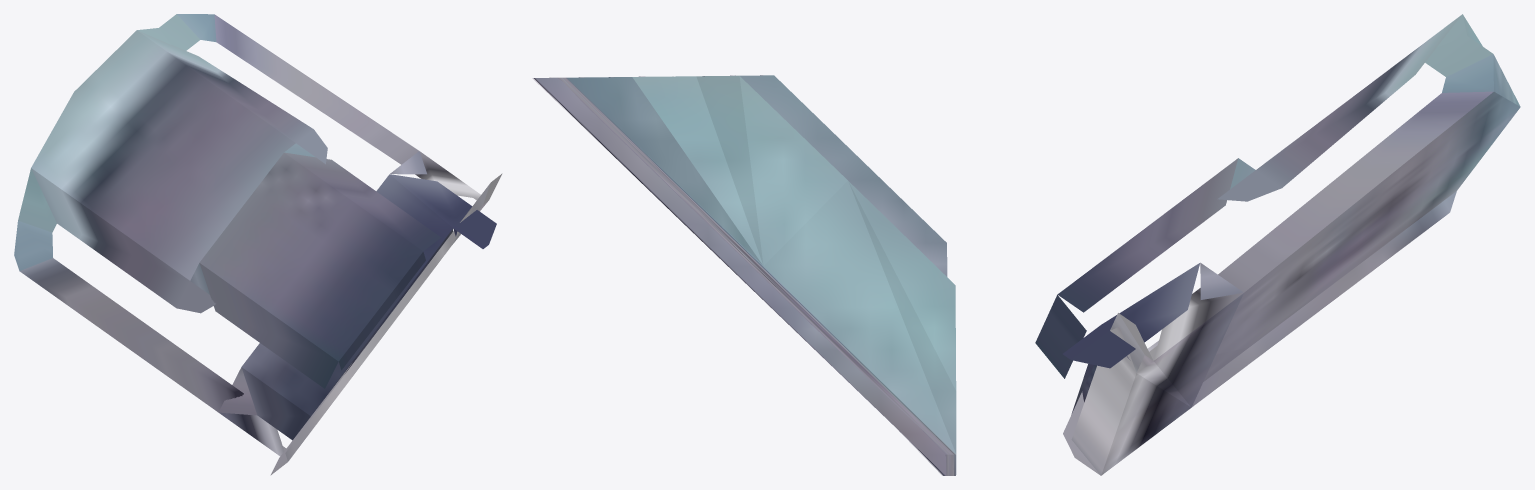
3 renders of one model, left to right at view 1: azimuth 30°, elevation 25°; view 2: azimuth 150°, elevation 25°; view 3: azimuth 270°, elevation 25°, orthographic. The views are drawn at different scales.
Size of the model in its own units: 5.27 by 4.6 by 4.48.
1 material, 1 textured.
